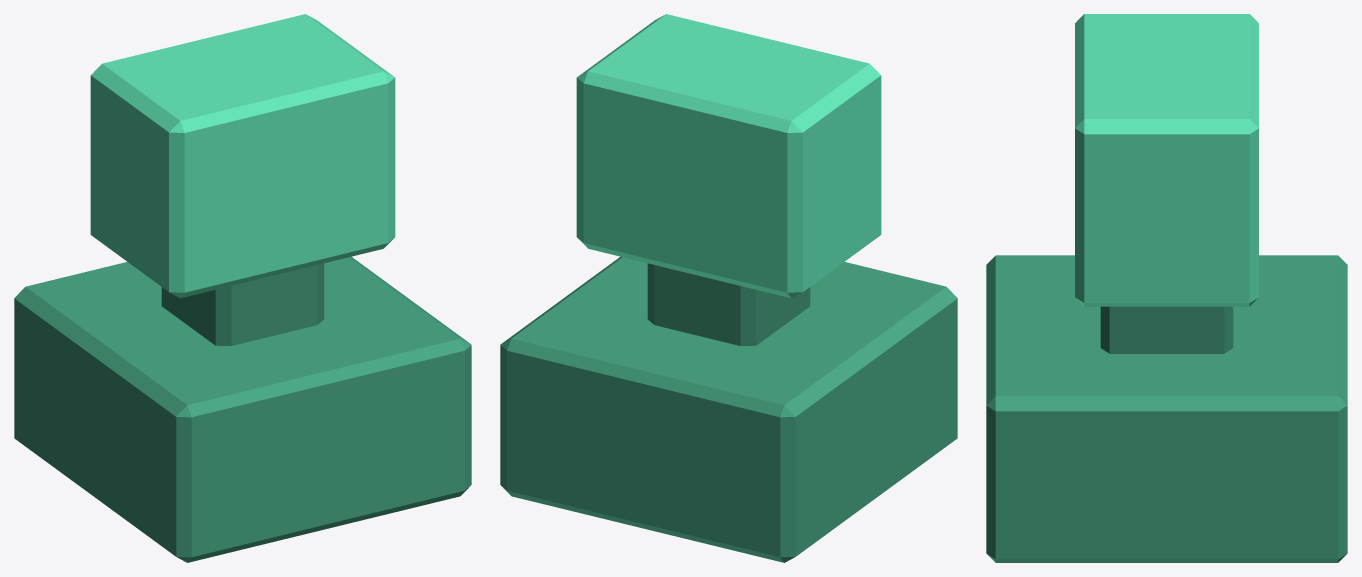
Rendered from request_computer.fbx.
3 renders of one model, left to right at view 1: azimuth 30°, elevation 25°; view 2: azimuth 150°, elevation 25°; view 3: azimuth 270°, elevation 25°, orthographic. The views are drawn at different scales.
Visible parts, largest first — view 1: request computer; view 2: request computer; view 3: request computer.
Part boxes in pixels (bbox=[...]): request computer: bbox=[14, 14, 471, 562]; request computer: bbox=[500, 14, 957, 562]; request computer: bbox=[986, 14, 1347, 562].
Bounding box in the file's own units: 196 × 255 × 196.
